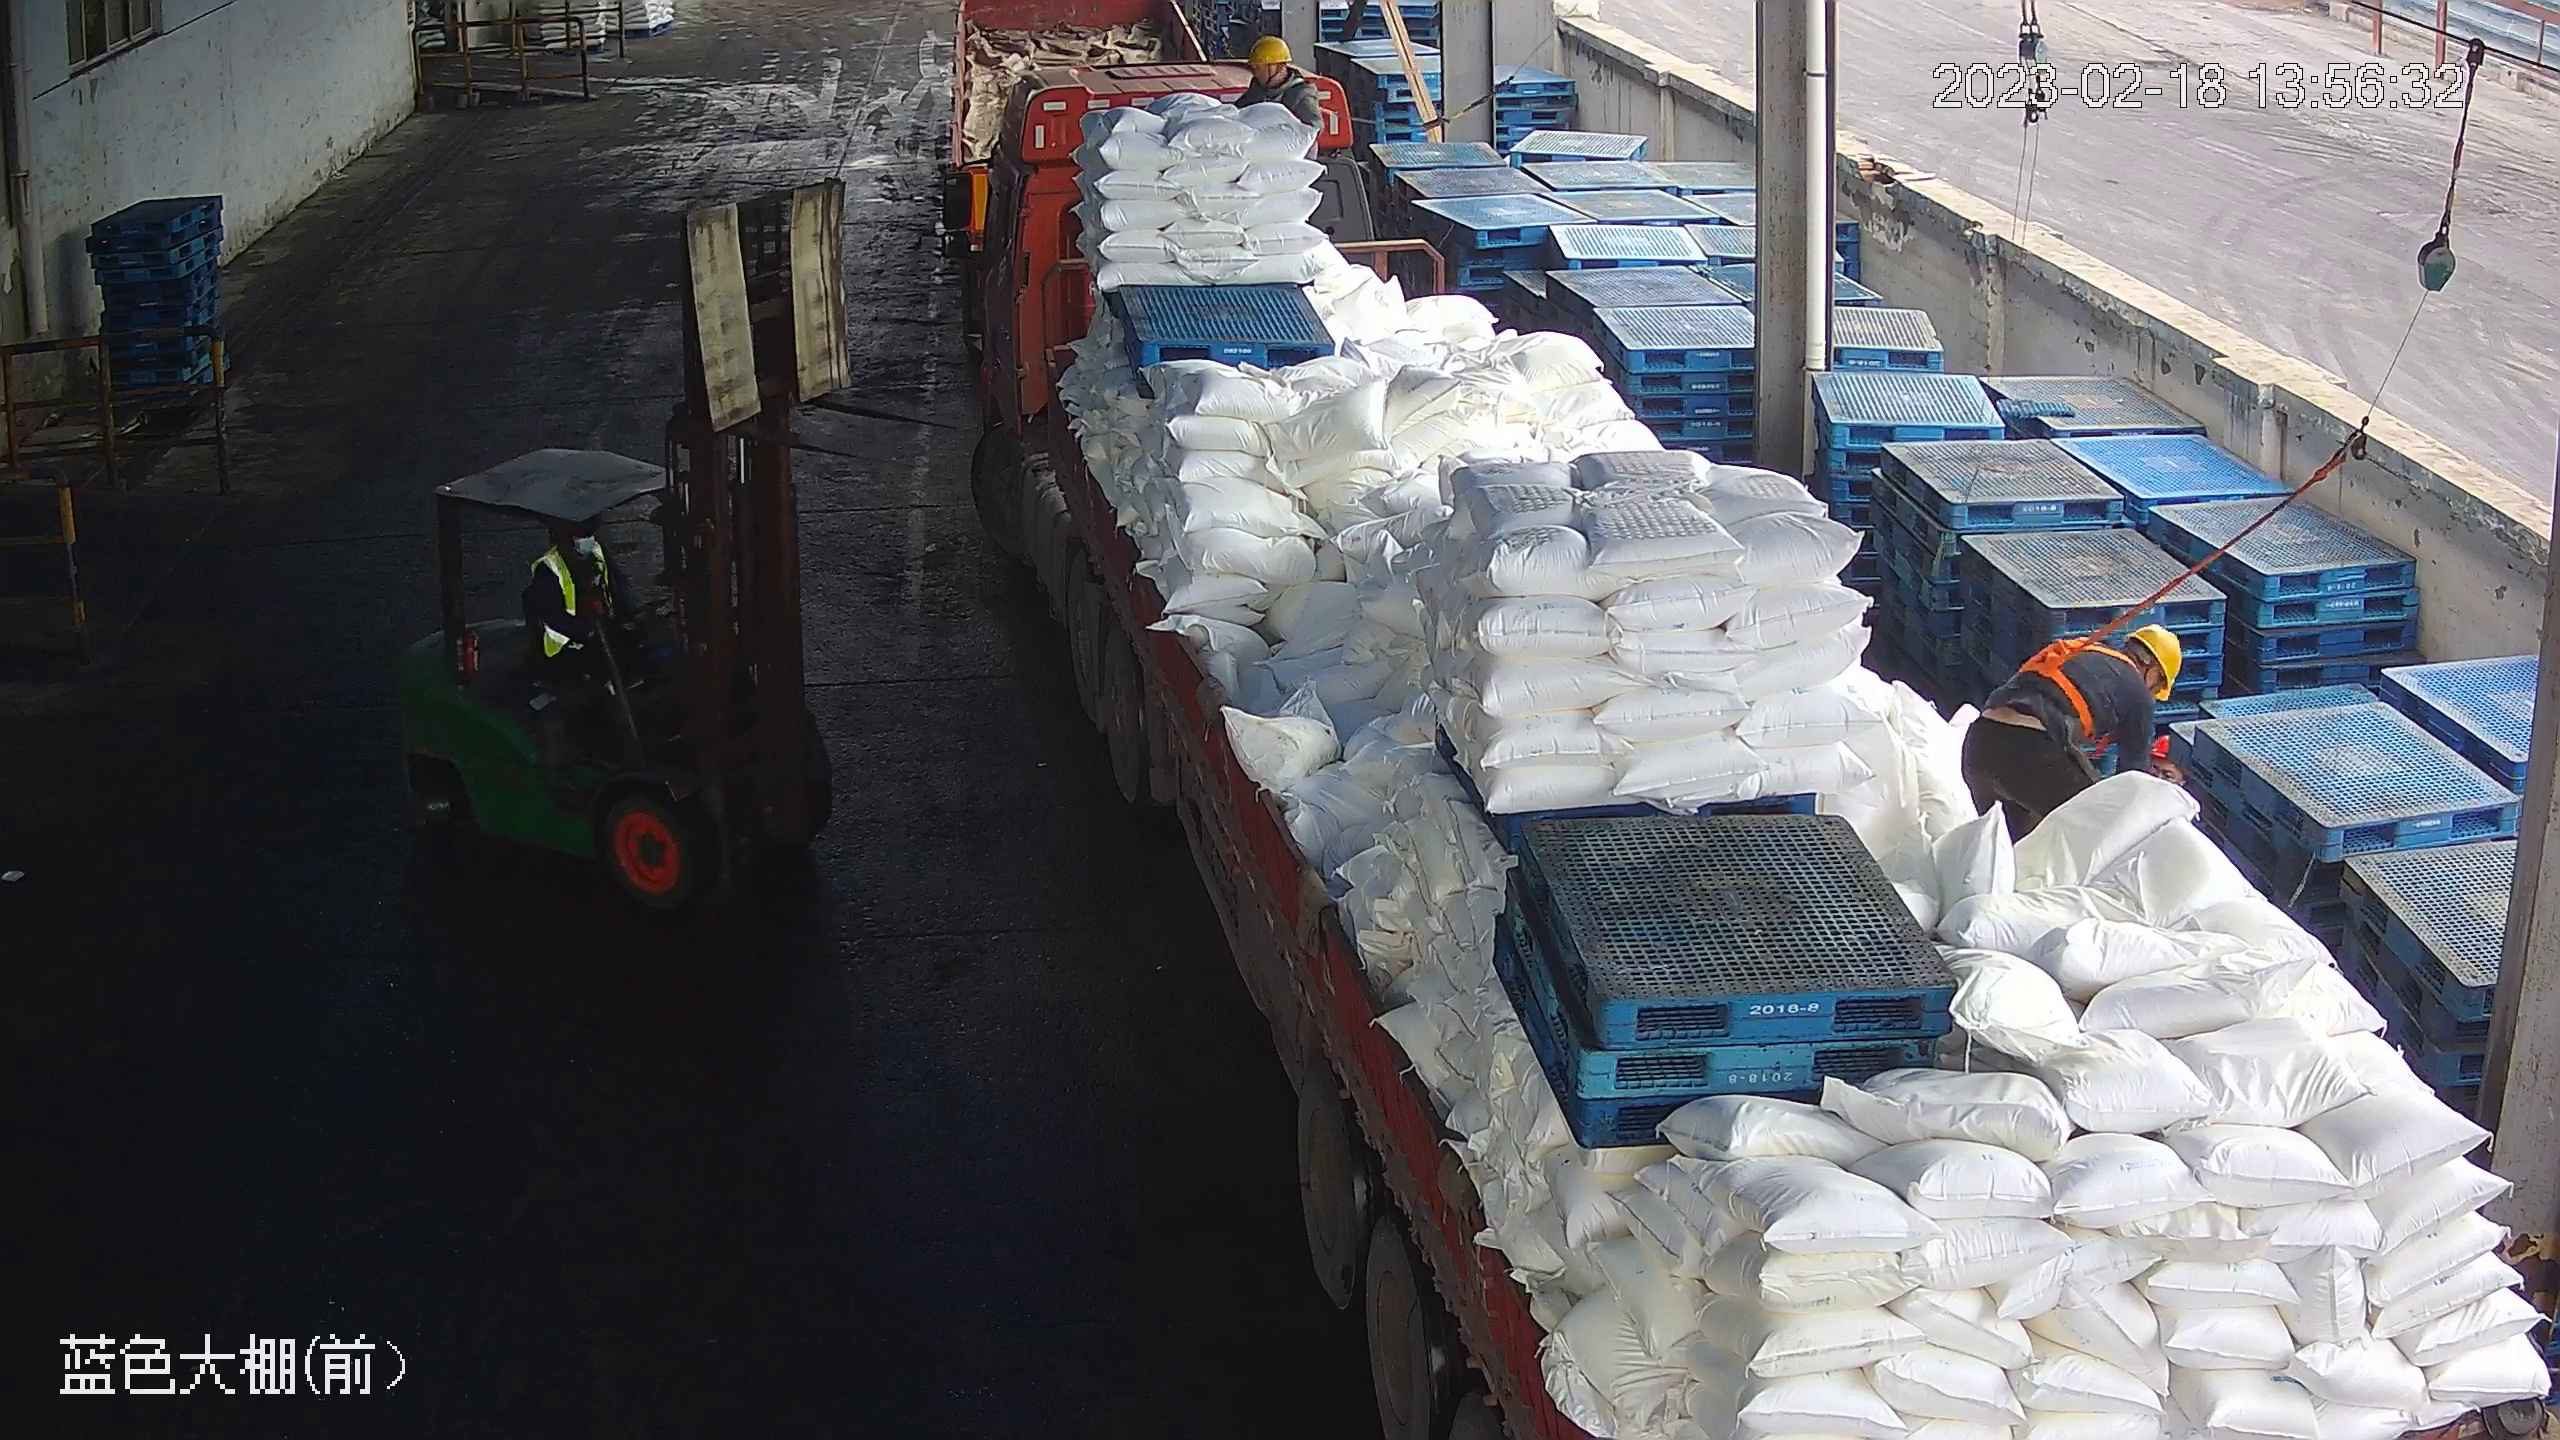belt: (2020, 619, 2135, 741), (1270, 74, 1320, 112)
head: (2066, 619, 2181, 715), (1237, 34, 1318, 102)
helmet: (2121, 622, 2181, 698), (1244, 33, 1292, 65)
people: (1957, 621, 2187, 845), (513, 520, 660, 697)
truck: (960, 62, 2558, 1440)
